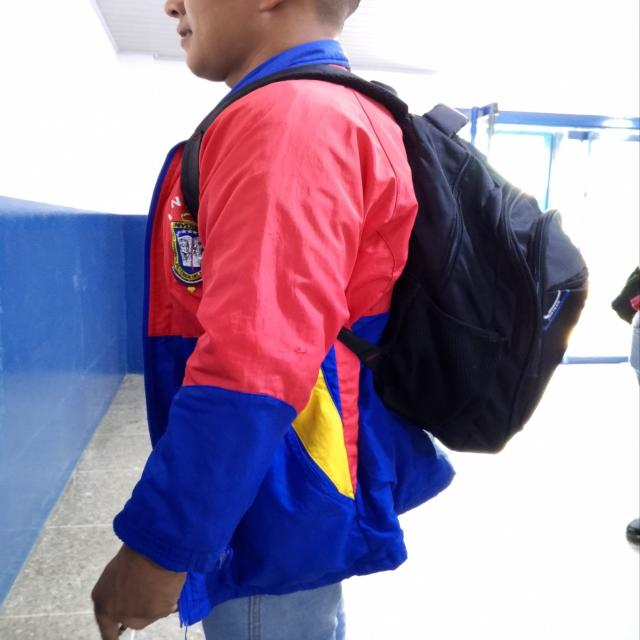chaqueta_unefa: (111, 38, 456, 627)
